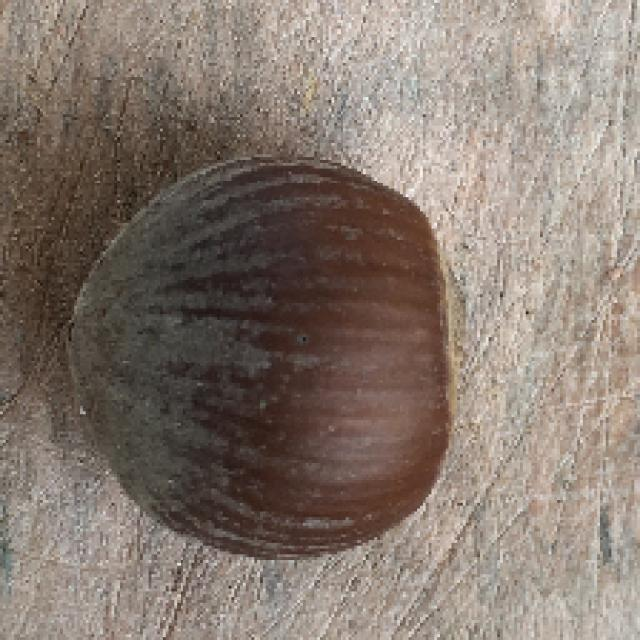qualityHazelnut: (66, 150, 466, 562)
